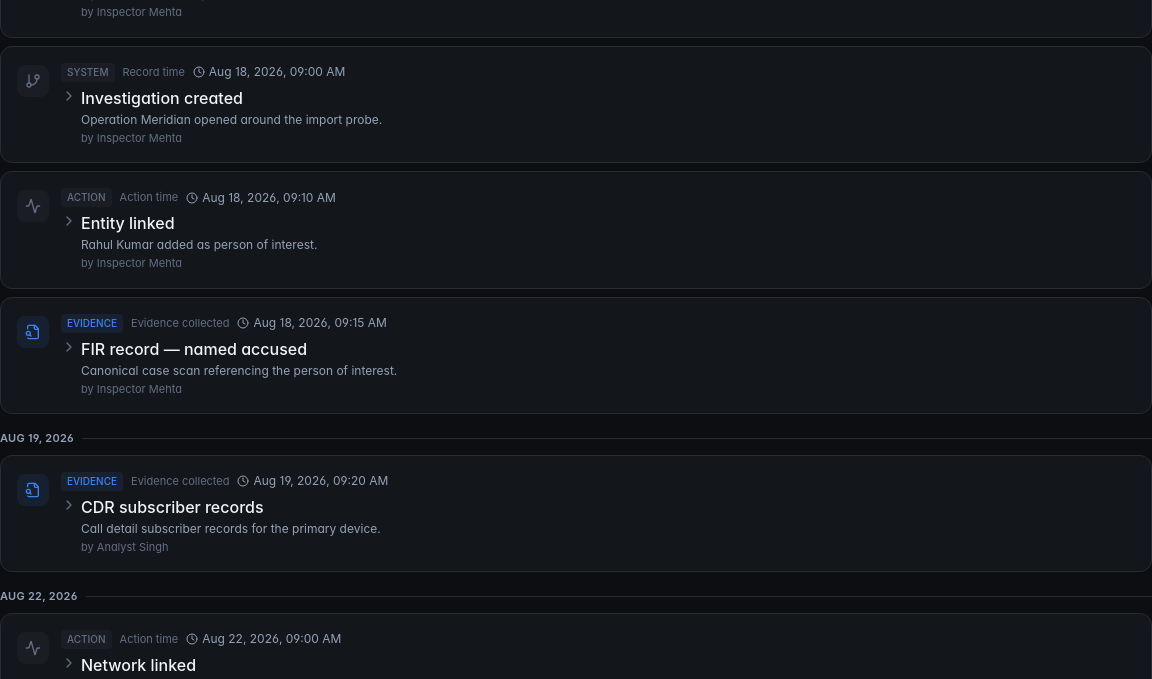
Test: InvestigationTimelineTab › expands an evidence row into the detail panel with honest event linkage
(page scrolled)
Click the button with test id "timeline-expand-tl-ev-ev-001". click: (184, 348)
box: [61, 336, 307, 360]
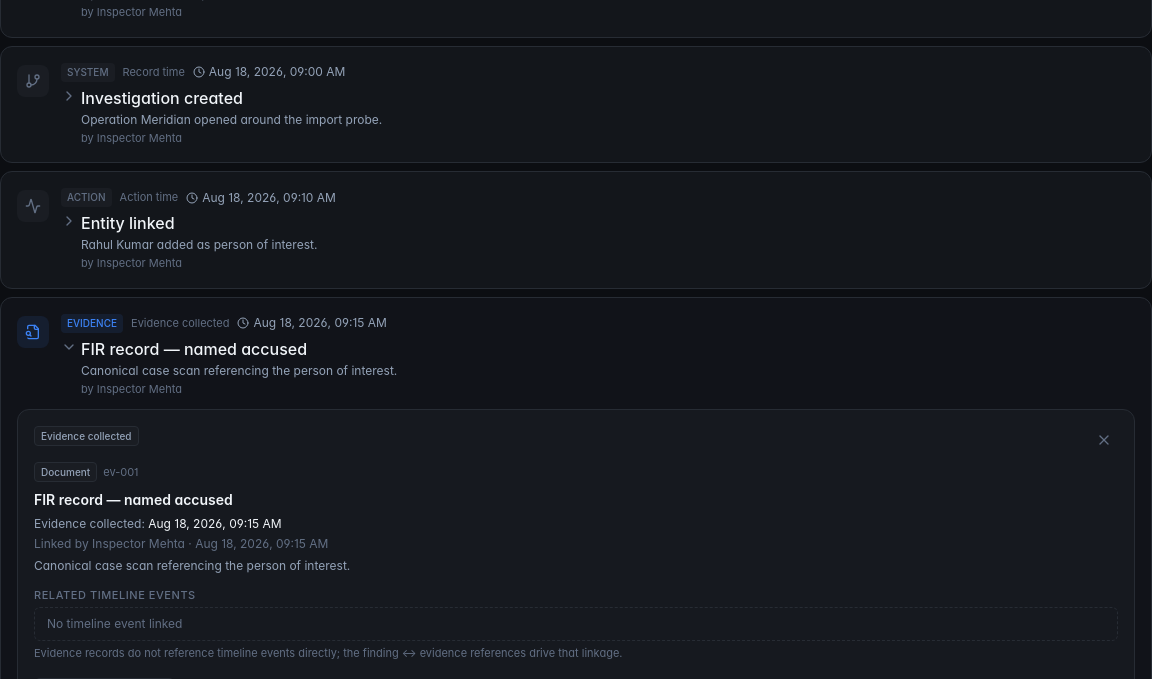
Now the text "No timeline event linked" is shown, box [34, 607, 1118, 641]
